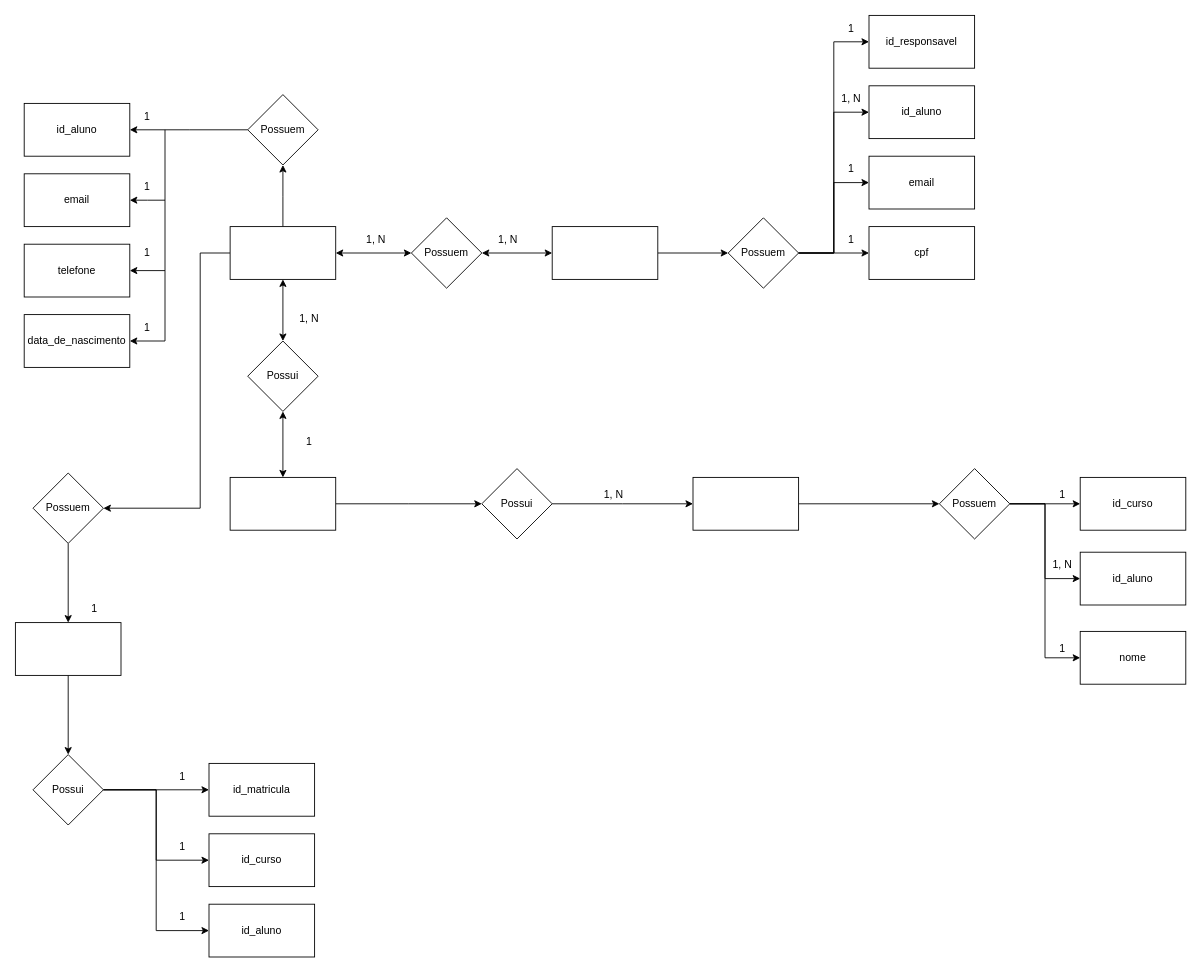
The diagram is 1201 pixels wide and 972 high, and some of its shapes have lost their labels. The centre of each missing label's shape, as x and y in pixels:
Alunos: the point at 282,252
Cursos: the point at 745,503
Escola: the point at 282,503
Matrícula: the point at 68,648
Responsáveis: the point at 604,252
